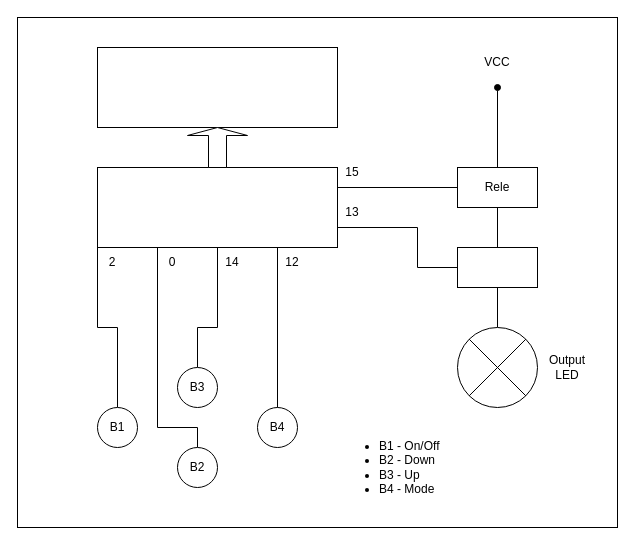
This 635x545 diagram has some shape labels left out. The shapes that lost their labels are listed below. From the top down, each one's box as (x1, y1, x2, y2) in pixels, then its label:
(96, 46, 338, 128): Display OLED
(96, 166, 338, 248): ESP32
(456, 246, 538, 288): MOSFET
